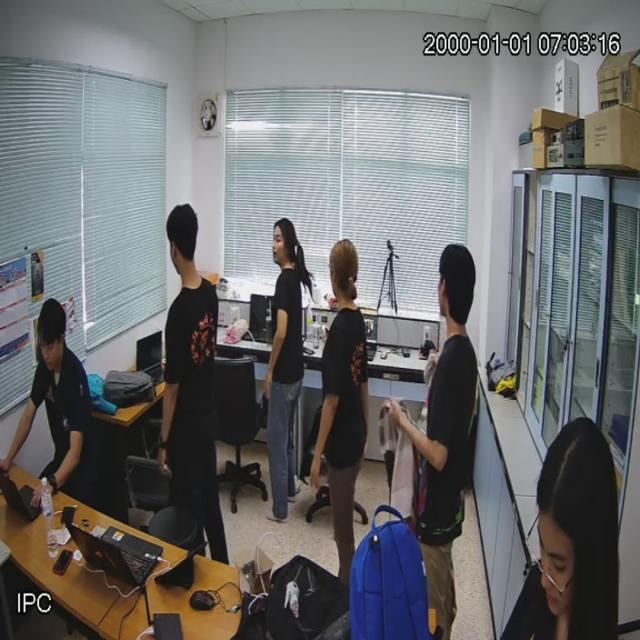normal: (397, 234, 484, 640), (156, 192, 226, 567), (316, 226, 374, 581), (257, 206, 312, 526), (23, 295, 96, 510)
